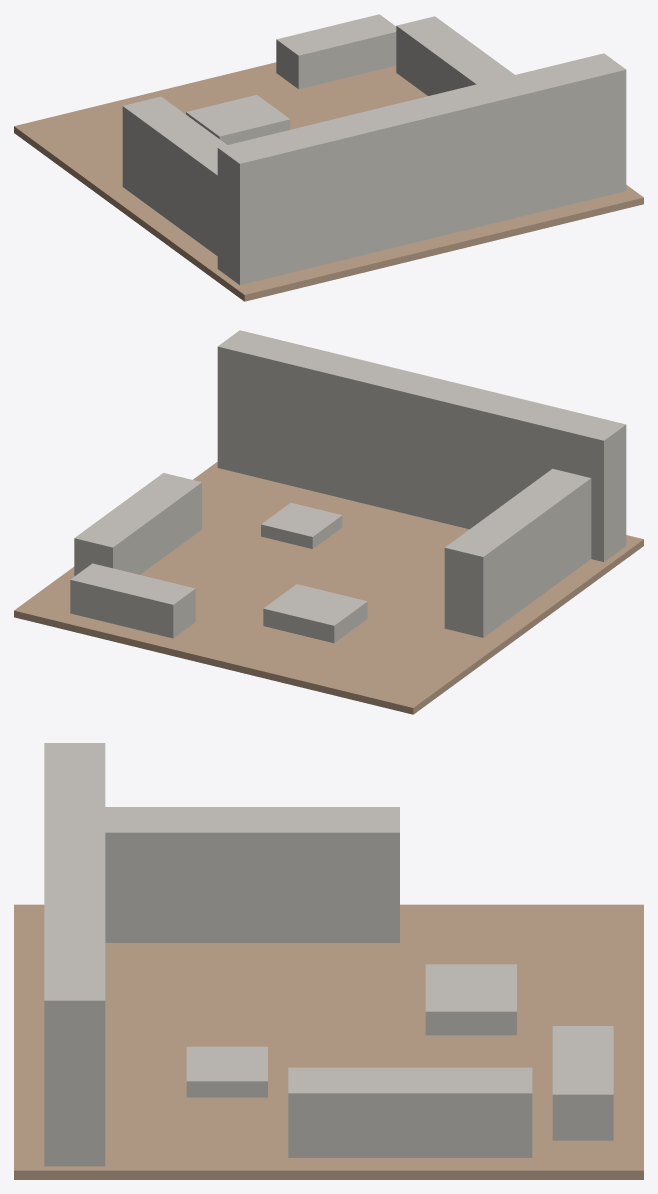
The model's file is ruin-stone.glb.
3 renders of one model, top to bottom at view 1: azimuth 30°, elevation 25°; view 2: azimuth 150°, elevation 25°; view 3: azimuth 270°, elevation 25°, orthographic. The views are drawn at different scales.
Parts seen in each view (by area): view 1: ruin-stone_stone, ruin-stone_soil; view 2: ruin-stone_stone, ruin-stone_soil; view 3: ruin-stone_soil, ruin-stone_stone.
Boxes of the visible parts, bbox=[...] form: ruin-stone_stone: bbox=[122, 14, 626, 284]; ruin-stone_soil: bbox=[14, 62, 643, 301]; ruin-stone_stone: bbox=[70, 330, 626, 643]; ruin-stone_soil: bbox=[14, 462, 643, 714]; ruin-stone_soil: bbox=[14, 904, 643, 1179]; ruin-stone_stone: bbox=[44, 743, 613, 1166].
Size of the model in its own units: 2.07 by 0.6333 by 2.07.
